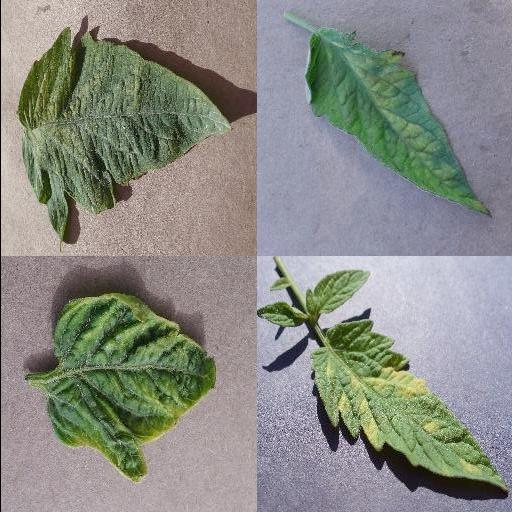Leaf Mold: (300, 28, 492, 216), (309, 320, 509, 488)
Spider Mites: (19, 27, 233, 237)
Yellow Leaf Curl Virus: (44, 292, 218, 482)
